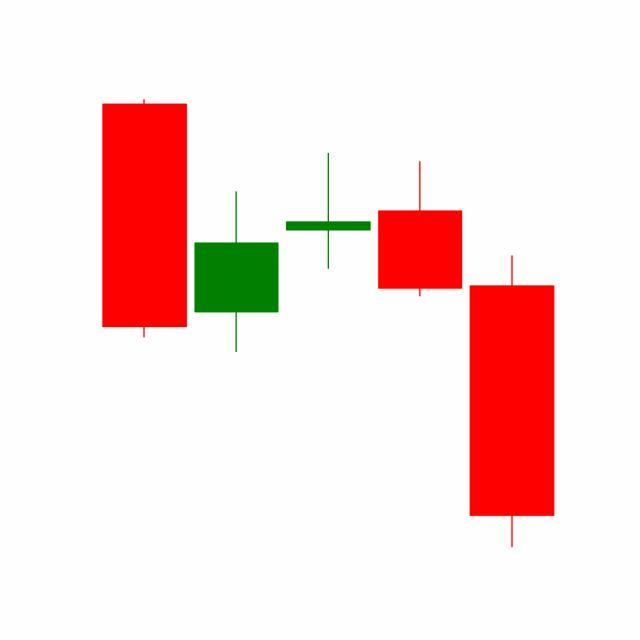Three Outside Up-Down: (280, 148, 555, 548)
